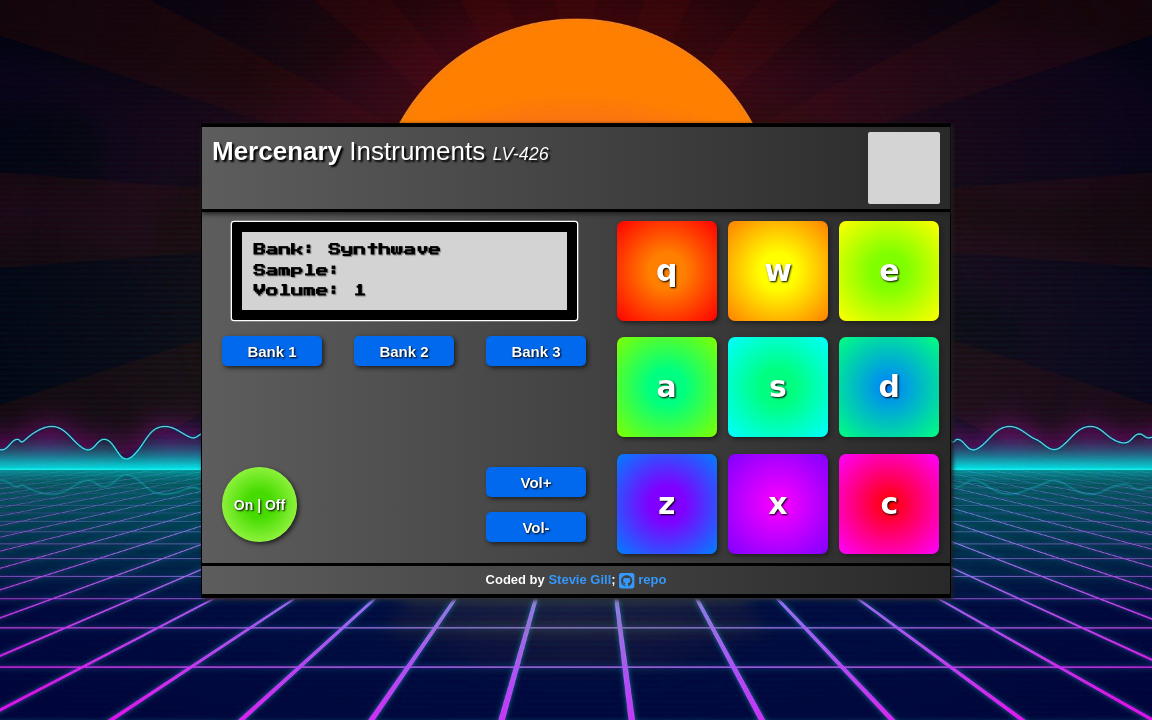
Test: display › should be blank when power turned off
Expected: the text "Bank: Synthwave" is shown, [254,243,441,256]
Click the button "On | Off".
click(260, 505)  # box [222,467,297,542]
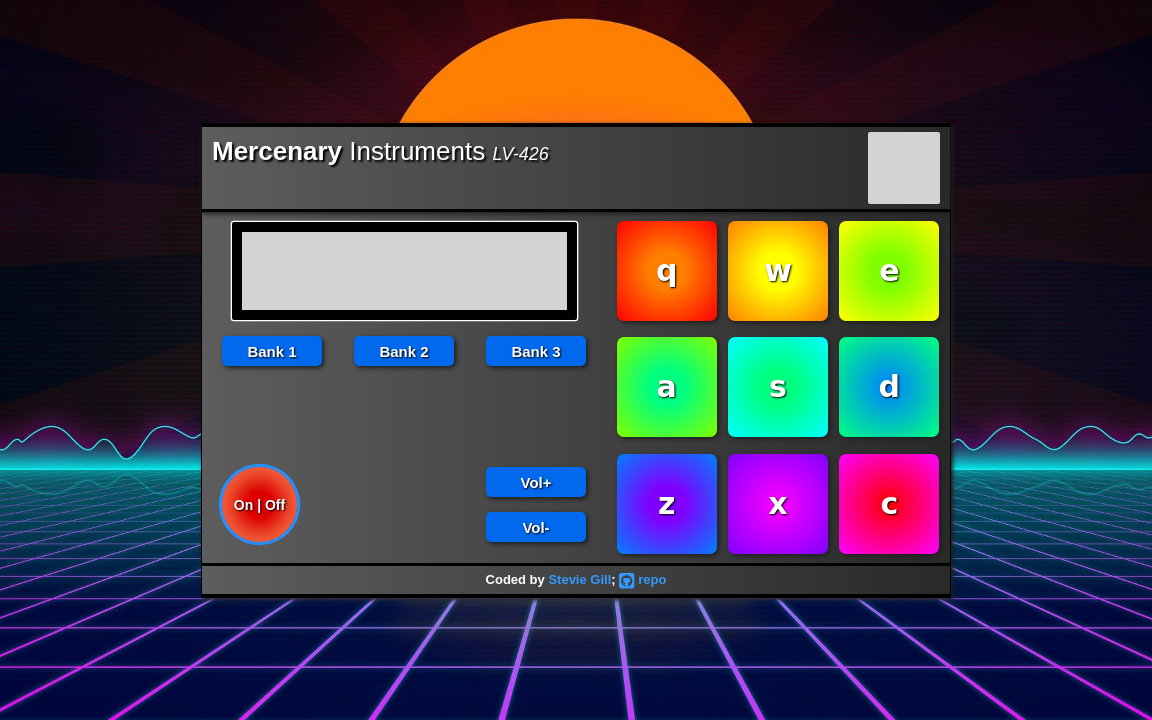
Expected: the text "Bank: Synthwave" is gone
